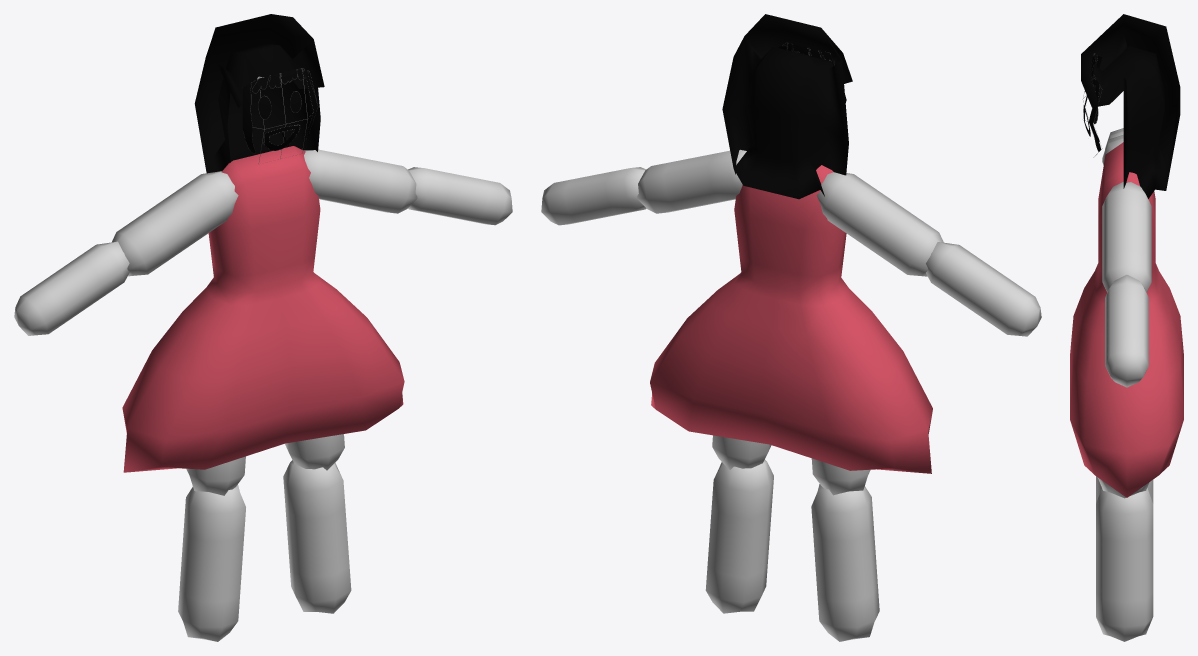
The model's file is mariekondo.fbx.
3 views of the same model, side by side, from view 1: azimuth 30°, elevation 25°; view 2: azimuth 150°, elevation 25°; view 3: azimuth 270°, elevation 25° (orthographic). The views are drawn at different scales.
Parts seen in each view (by area): view 1: Cube; view 2: Cube; view 3: Cube.
Boxes of the visible parts, x1,y1,x2,y2 form: Cube: (14, 14, 512, 641); Cube: (541, 14, 1041, 641); Cube: (1070, 14, 1183, 641).
Size of the model in its own units: 652 by 761 by 134.
4 materials, 1 textured.
